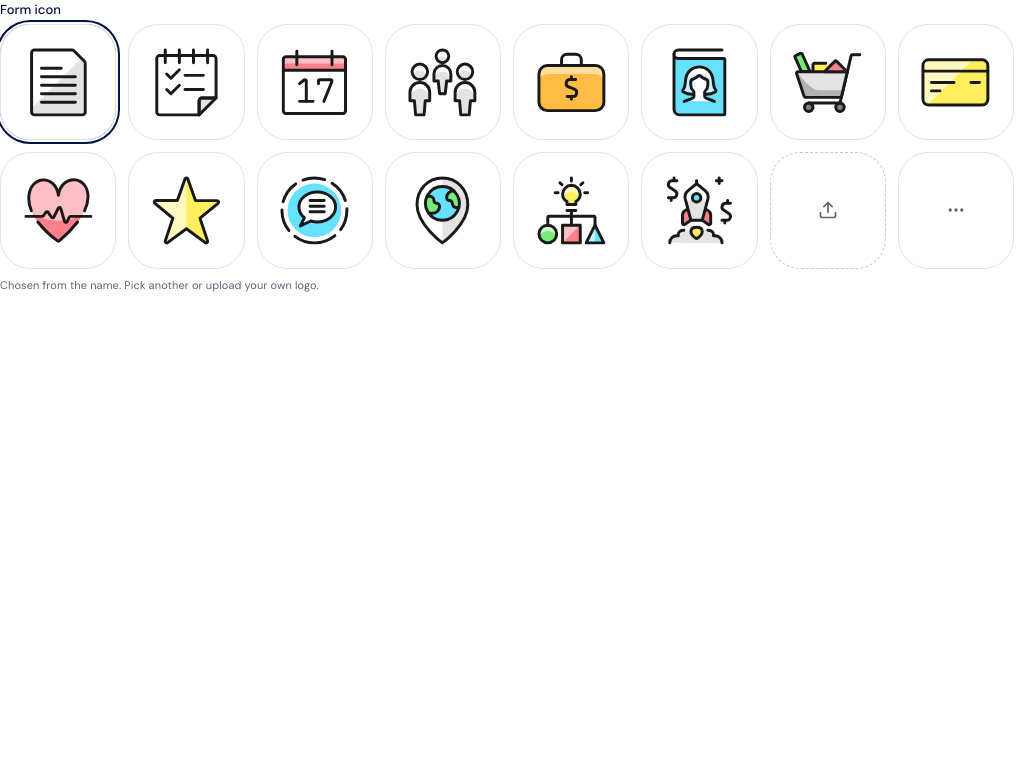
Test: FormMarkPicker › More icons opens the whole set with a search, the licence credit, and picking one closes it
Click the button named "More icons". click: click(956, 210)
box: [898,152,1014,269]
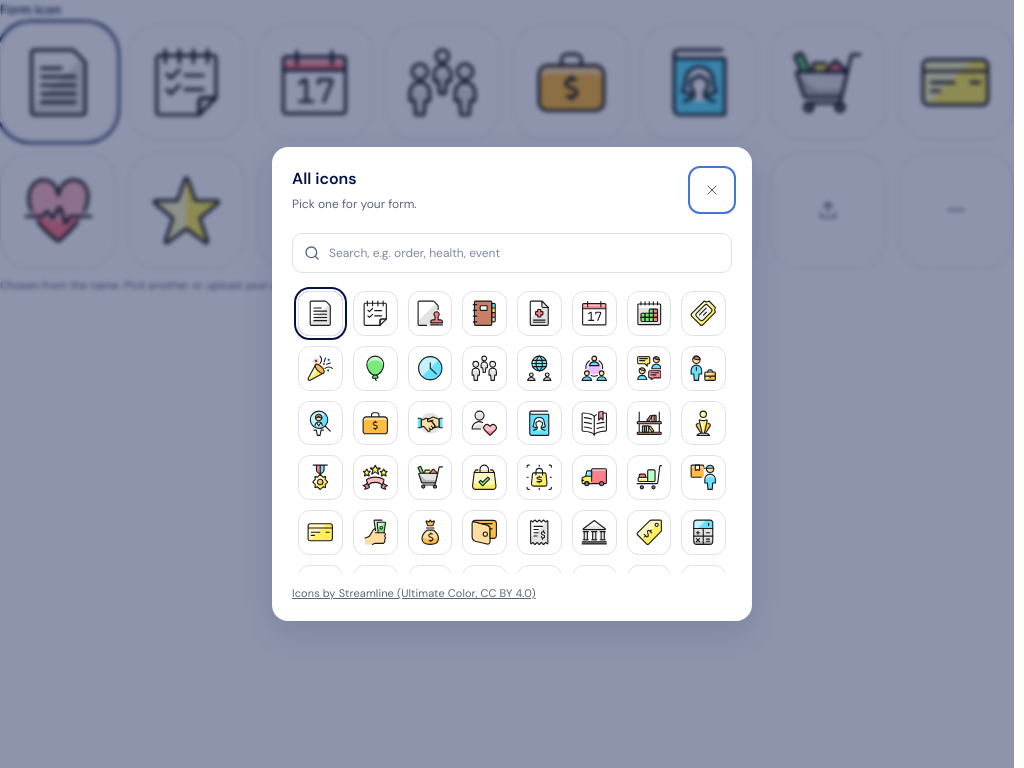
Type "money" into the search field named "Search icons". click: (512, 253)
box: [292,233,732,273]
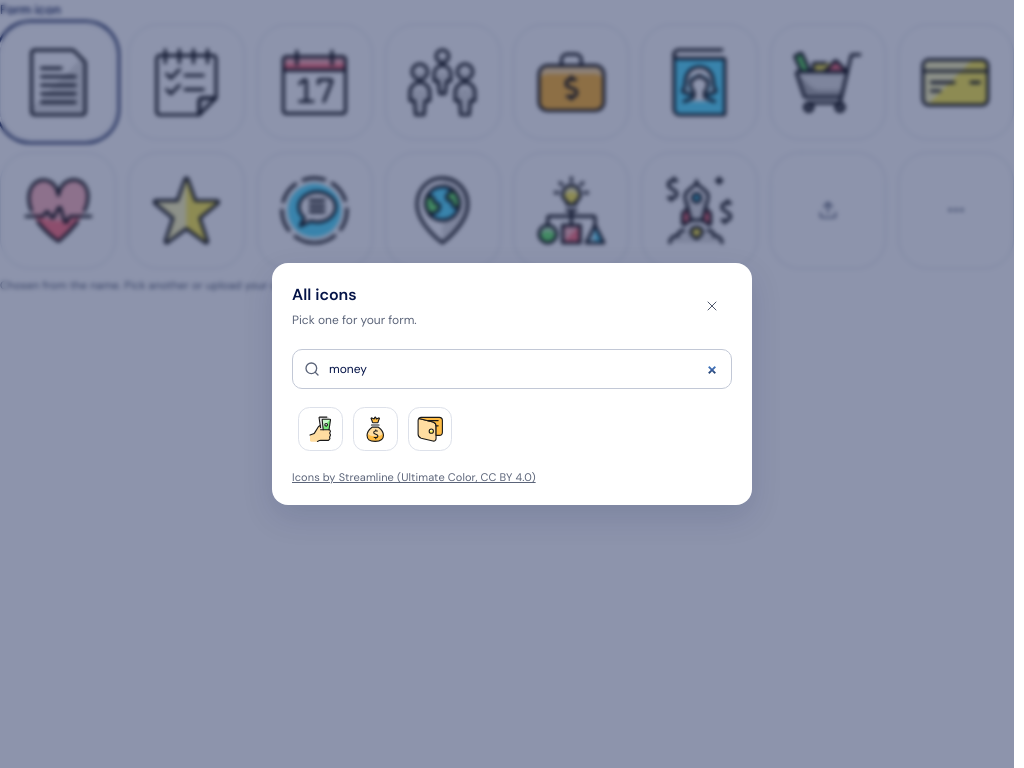
expect the radio button named "Wallet" is shown: met
Click the radio button named "Wallet". click: click(430, 429)
box: [408,407,452,451]
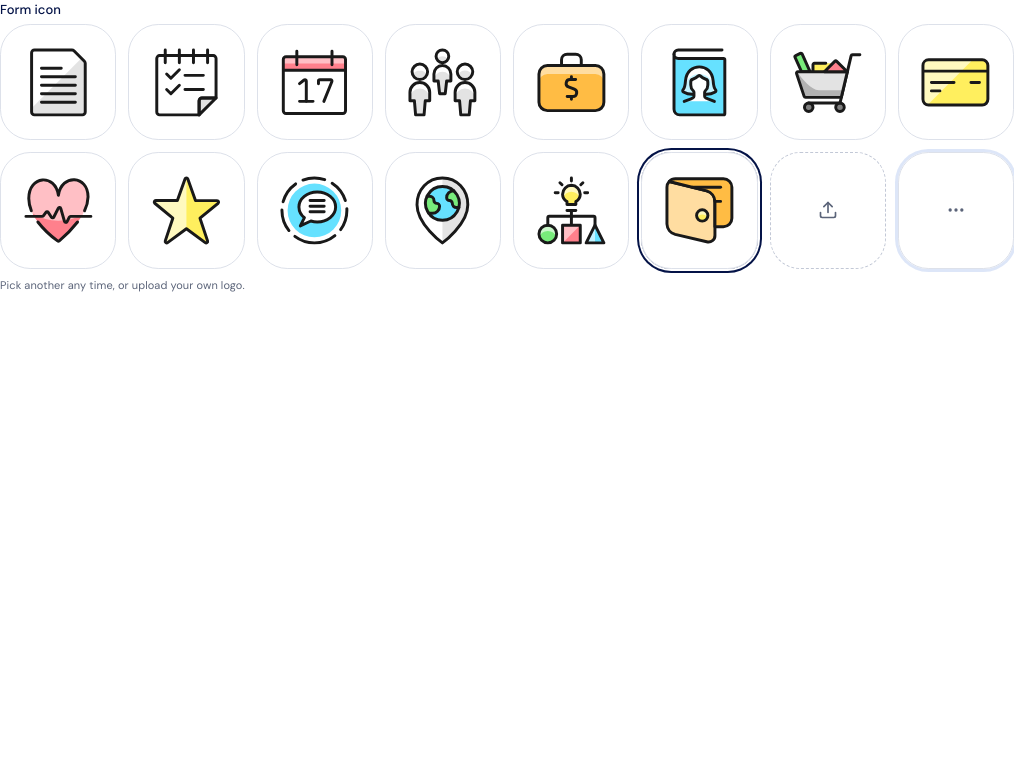
expect the dialog is gone: met
